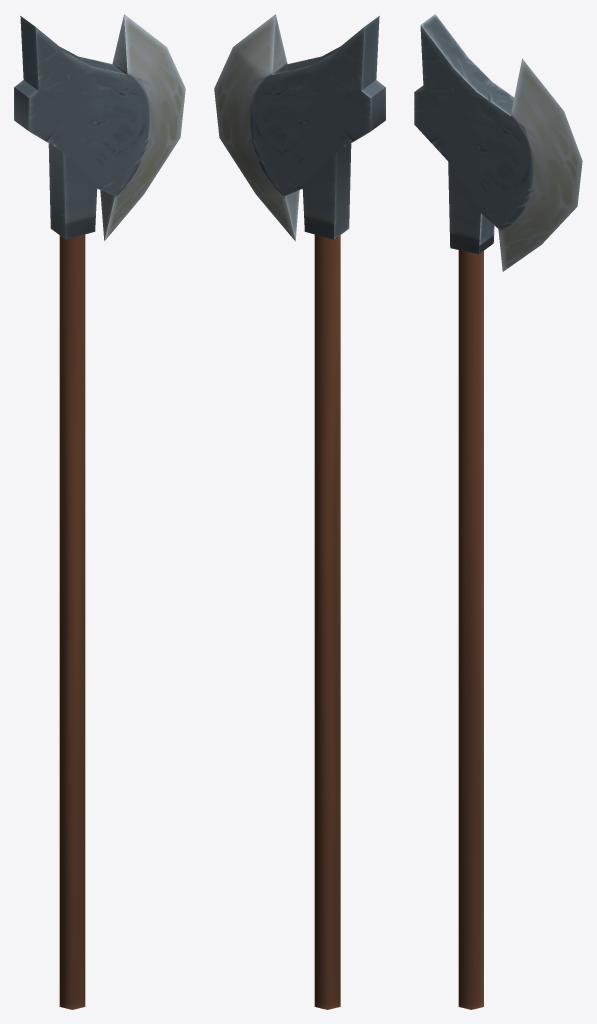
The model's file is wuqi01.fbx.
The picture shows the model from 3 angles, left to right: view 1: azimuth 30°, elevation 25°; view 2: azimuth 150°, elevation 25°; view 3: azimuth 330°, elevation 25°; orthographic projection. The views are drawn at different scales.
Parts seen in each view (by area): view 1: wuqi02; view 2: wuqi02; view 3: wuqi02.
Part boxes in pixels (box(x1,y1,x2,y2)): wuqi02: box(14, 14, 185, 1009); wuqi02: box(214, 14, 385, 1009); wuqi02: box(414, 14, 582, 1009).
Bounding box in the file's own units: 13.38 × 77.39 × 2.14.
1 material, 1 textured.
